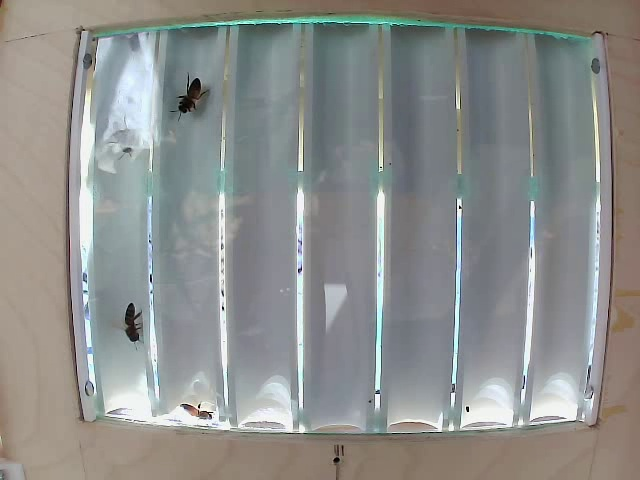bee: (118, 297, 157, 352), (173, 67, 205, 116)
